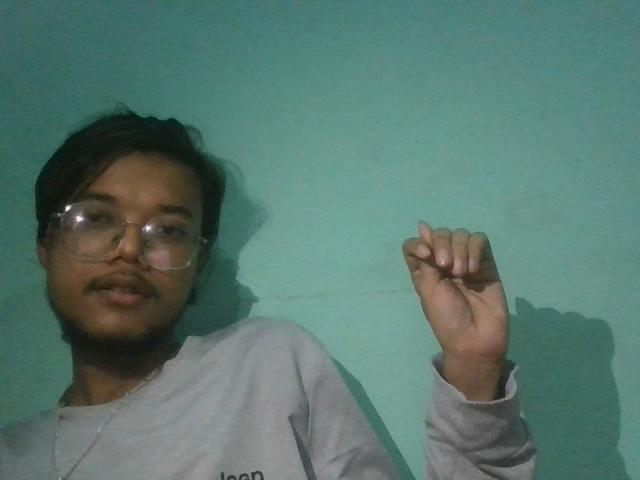Washroom: (392, 214, 531, 387)
